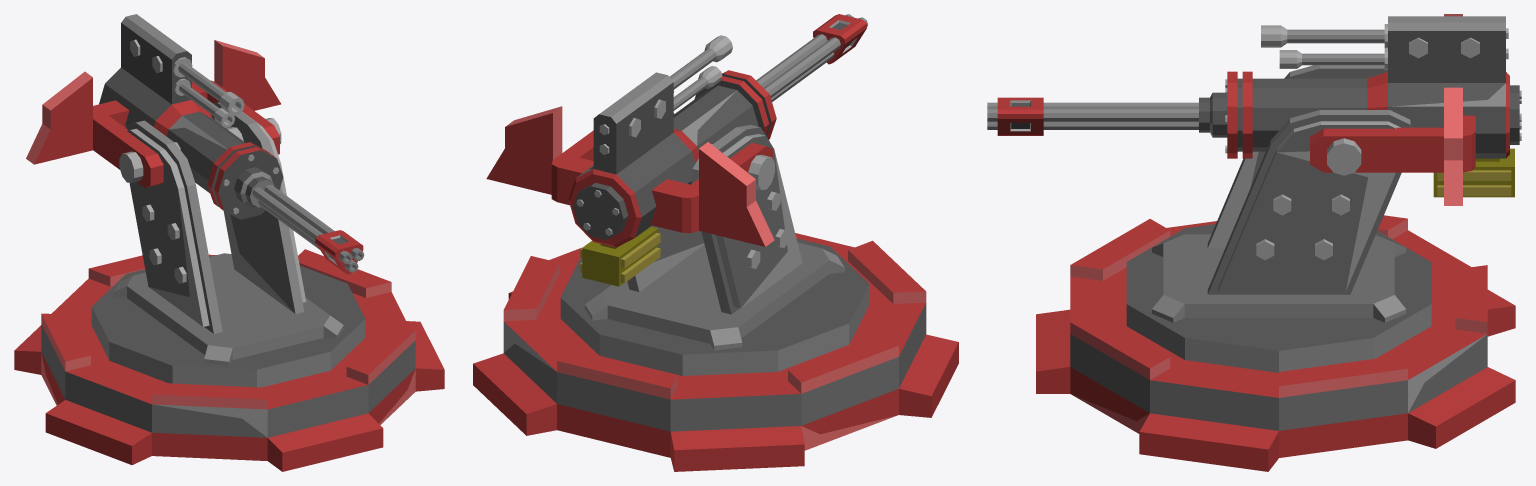
File: tower_minigun_red_3.fbx
The picture shows the model from 3 angles, left to right: view 1: azimuth 30°, elevation 25°; view 2: azimuth 150°, elevation 25°; view 3: azimuth 270°, elevation 25°; orthographic projection. The views are drawn at different scales.
Visible parts, largest first — view 1: top_minigun_red_3, tower_minigun_red_3; view 2: top_minigun_red_3, tower_minigun_red_3; view 3: top_minigun_red_3, tower_minigun_red_3.
Part boxes in pixels (x1=…): top_minigun_red_3: x1=26, y1=14, x2=365, y2=387; tower_minigun_red_3: x1=14, y1=249, x2=444, y2=471; top_minigun_red_3: x1=486, y1=14, x2=869, y2=375; tower_minigun_red_3: x1=473, y1=233, x2=958, y2=471; top_minigun_red_3: x1=987, y1=14, x2=1521, y2=372; tower_minigun_red_3: x1=1036, y1=215, x2=1515, y2=471.
Size of the model in its own units: 167 by 126 by 177.
